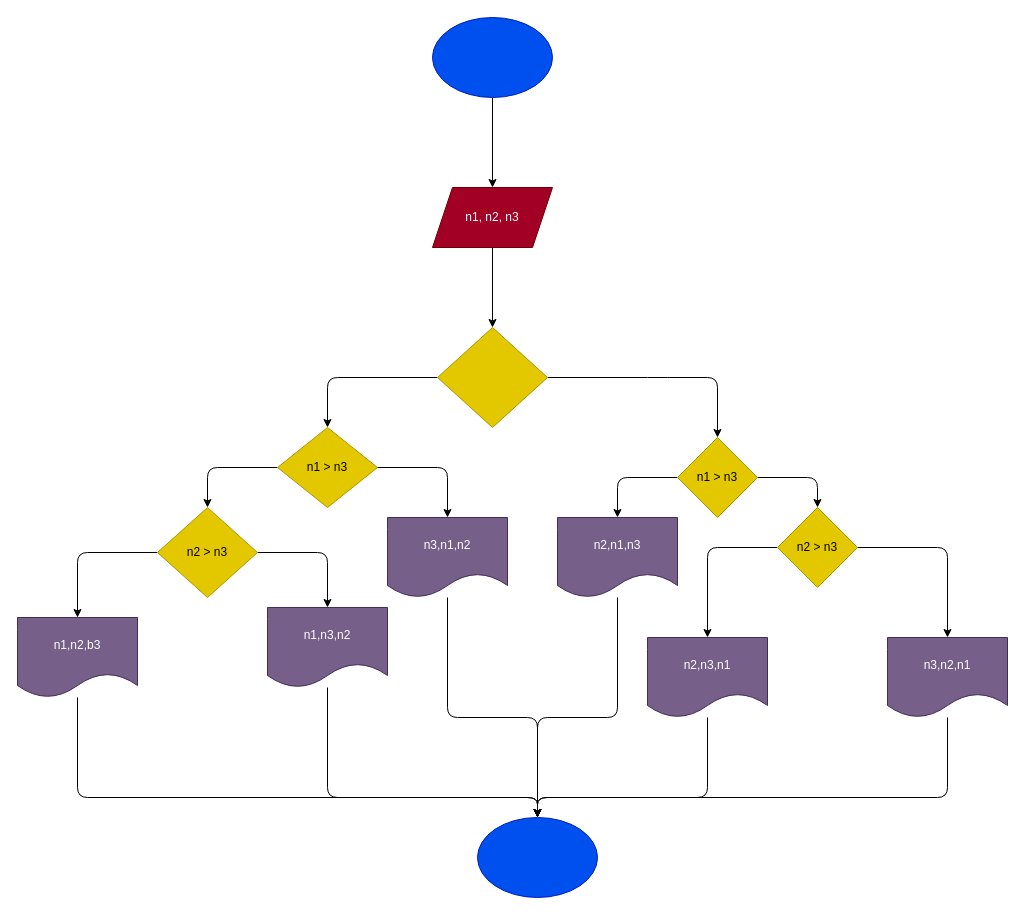
Some shapes in this 1025 by 915 pixel diagram are drawn without their labels. The centre of each missing label's shape, as x and y in pixels:
"fin" goes at (x=537, y=857).
"inicio" goes at (x=492, y=57).
"n1 > n2" goes at (x=492, y=377).
